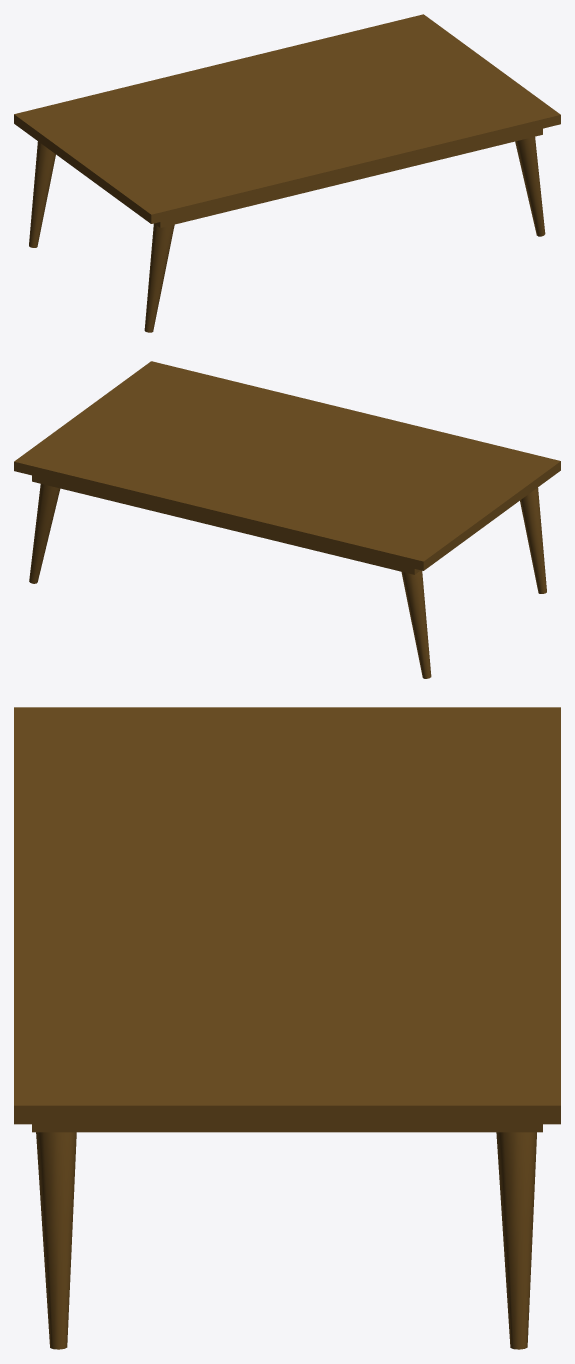
The model's file is Table.fbx.
The picture shows the model from 3 angles, top to bottom: view 1: azimuth 30°, elevation 25°; view 2: azimuth 150°, elevation 25°; view 3: azimuth 270°, elevation 25°; orthographic projection. The views are drawn at different scales.
Visible parts, largest first — view 1: Table_Leg4; view 2: Table_Leg4; view 3: Table_Leg4.
Boxes of the visible parts, x1,y1,x2,y2 form: Table_Leg4: (14, 14, 560, 332); Table_Leg4: (14, 361, 560, 678); Table_Leg4: (14, 707, 560, 1349).
Bounding box in the file's own units: 303 × 89.38 × 176.
